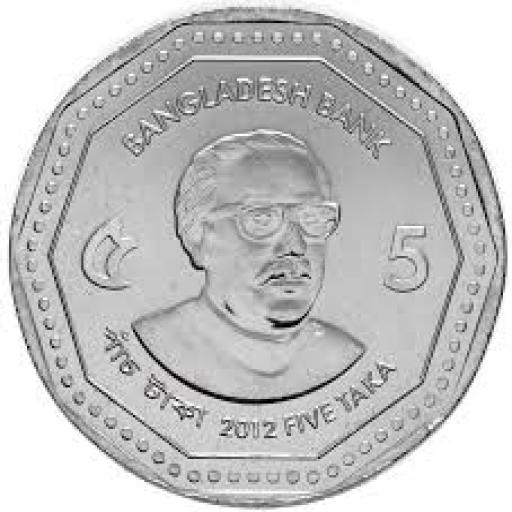5taka: (11, 9, 505, 503)
